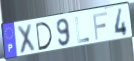4: (114, 7, 128, 37)
9: (56, 17, 72, 48)
D: (35, 21, 54, 52)
F: (92, 11, 109, 42)
L: (74, 16, 91, 44)
X: (16, 22, 36, 55)
